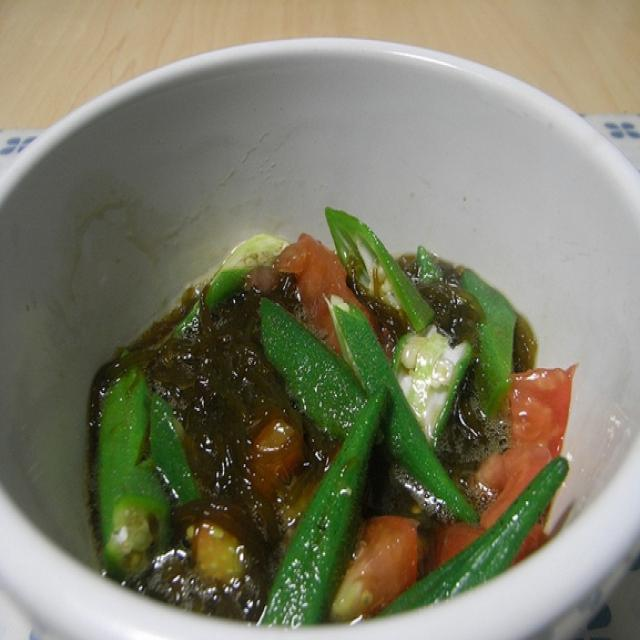蔬菜料理: (35, 120, 618, 621)
